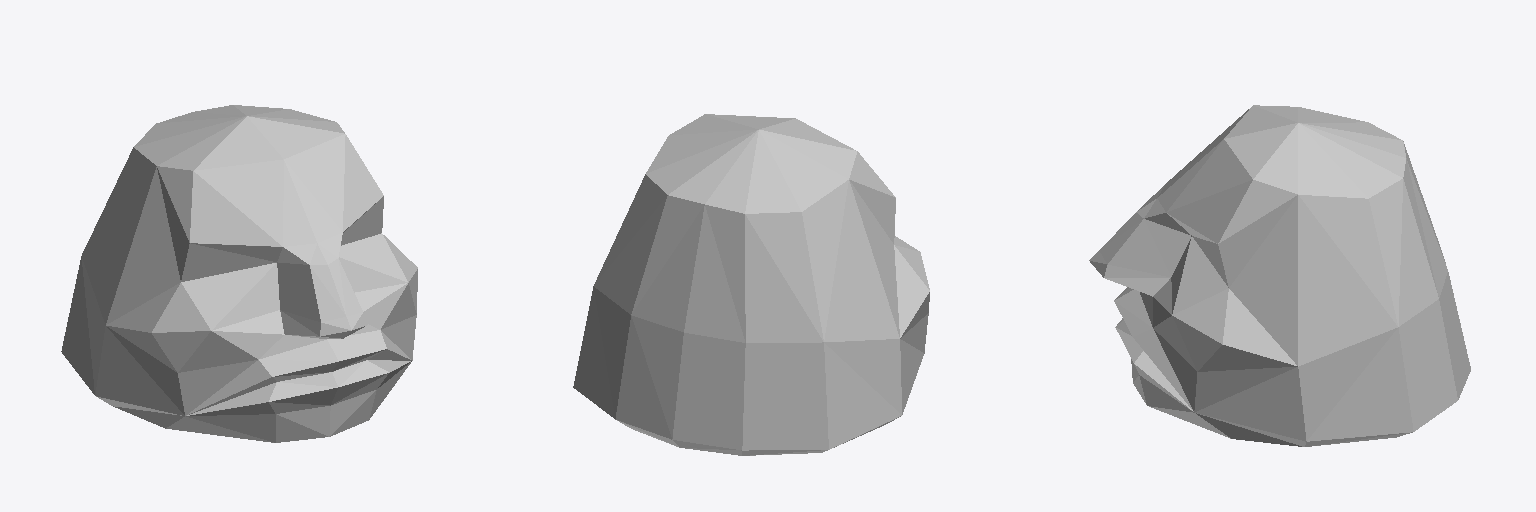
File: Stone Head.obj
3 views of the same model, side by side, from view 1: azimuth 30°, elevation 25°; view 2: azimuth 150°, elevation 25°; view 3: azimuth 270°, elevation 25° (orthographic).
Parts seen in each view (by area): view 1: Ekao__Ekao1_v; view 2: Ekao__Ekao1_v; view 3: Ekao__Ekao1_v.
Boxes of the visible parts, box(x1,y1,x2,y2) form: Ekao__Ekao1_v: box(61, 105, 417, 442); Ekao__Ekao1_v: box(573, 114, 929, 455); Ekao__Ekao1_v: box(1089, 105, 1470, 446).
Size of the model in its own units: 508 by 438 by 570.